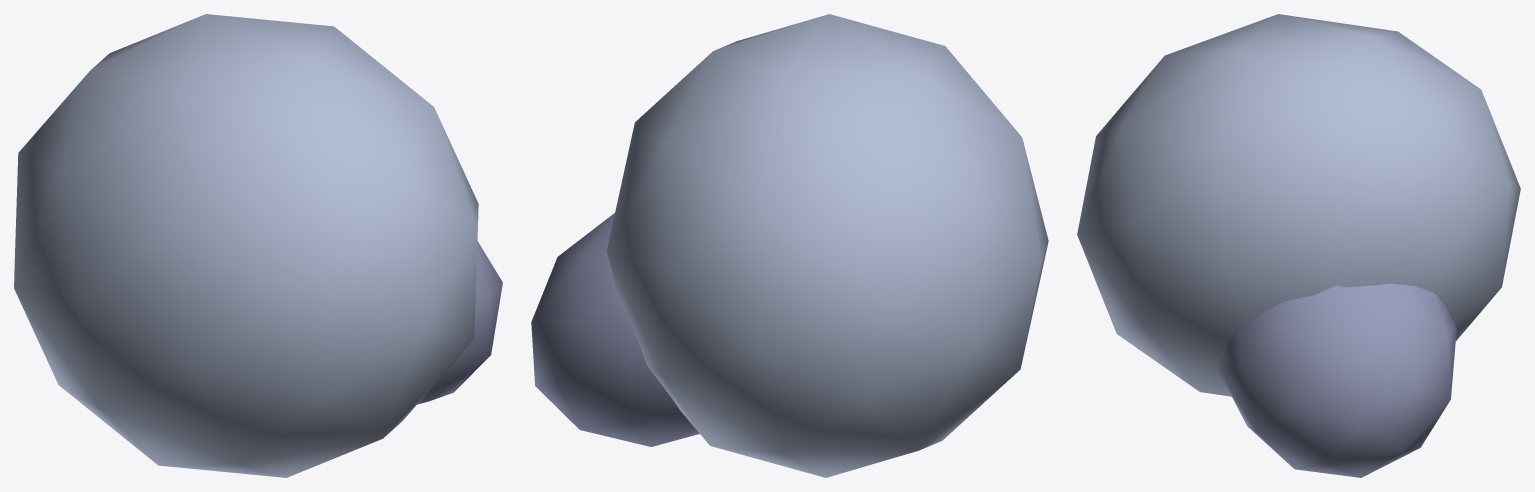
File: rock3.glb
The picture shows the model from 3 angles, left to right: view 1: azimuth 30°, elevation 25°; view 2: azimuth 150°, elevation 25°; view 3: azimuth 270°, elevation 25°; orthographic projection. The views are drawn at different scales.
Parts seen in each view (by area): view 1: RoundedRock_0.003, RoundedRock_1.003; view 2: RoundedRock_0.003, RoundedRock_1.003; view 3: RoundedRock_0.003, RoundedRock_1.003.
Part boxes in pixels (bbox=[...]): RoundedRock_0.003: bbox=[14, 14, 478, 477]; RoundedRock_1.003: bbox=[417, 241, 502, 404]; RoundedRock_0.003: bbox=[607, 14, 1048, 477]; RoundedRock_1.003: bbox=[531, 213, 699, 446]; RoundedRock_0.003: bbox=[1077, 14, 1520, 396]; RoundedRock_1.003: bbox=[1217, 283, 1456, 477].
Size of the model in its own units: 1.69 by 1.45 by 1.63.
